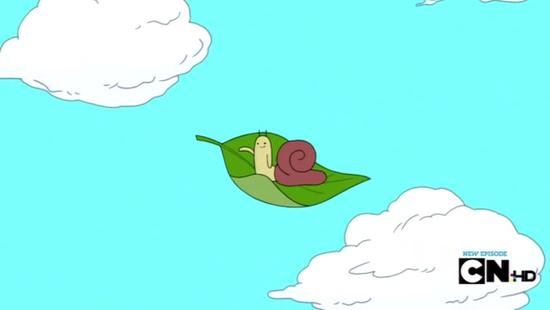snail: (238, 129, 330, 187)
